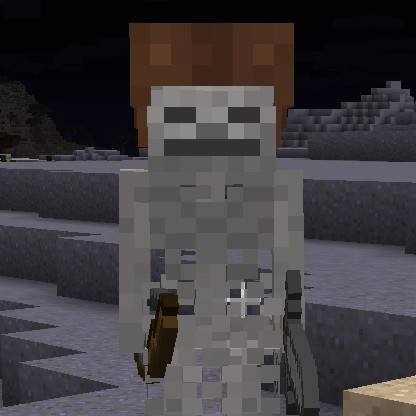skeleton: (106, 15, 310, 240)
